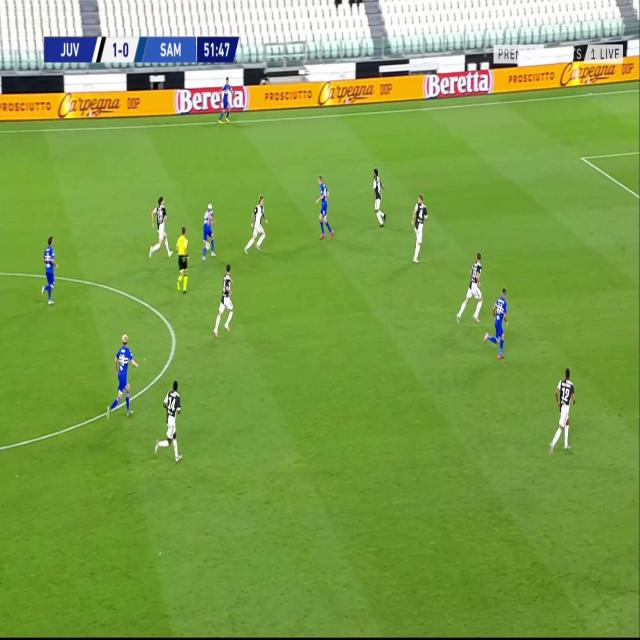ball: (206, 241, 210, 250)
player: (547, 366, 578, 456), (108, 331, 139, 419), (154, 378, 184, 464), (456, 250, 485, 327), (483, 291, 509, 359), (212, 262, 235, 338), (243, 193, 270, 256), (147, 194, 172, 262), (39, 234, 60, 306), (314, 172, 334, 242), (410, 191, 429, 264), (174, 224, 192, 293), (369, 166, 386, 228), (201, 199, 217, 261), (219, 75, 234, 124)
